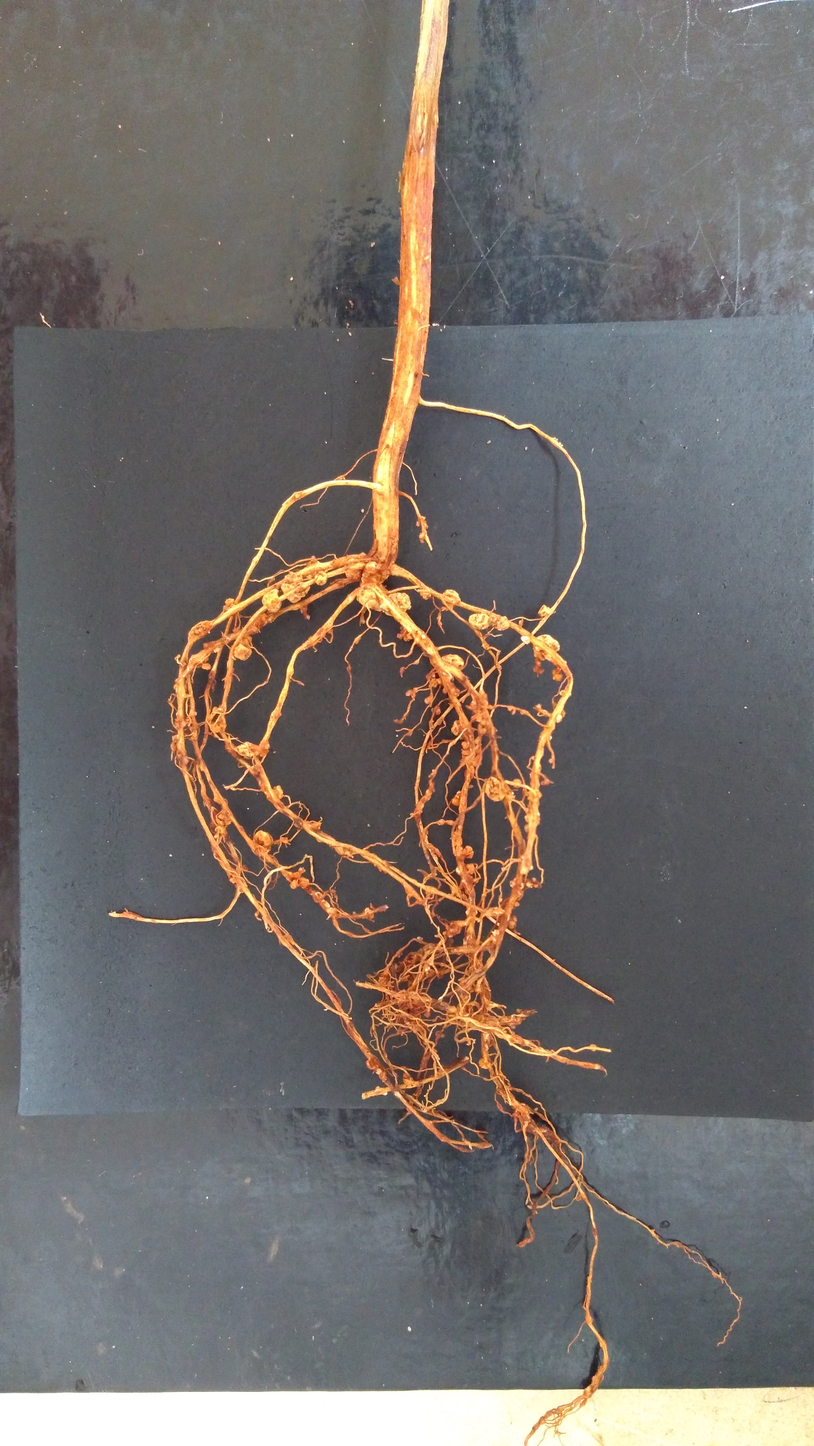nodule: (356, 583, 385, 612), (532, 634, 560, 661), (382, 592, 411, 617), (280, 581, 310, 603), (251, 830, 273, 857), (462, 934, 484, 961), (485, 775, 505, 802), (188, 620, 211, 643), (395, 988, 420, 1009), (261, 589, 282, 613), (345, 558, 365, 582), (209, 818, 229, 842), (468, 612, 493, 631), (236, 740, 261, 759), (440, 654, 464, 670), (188, 650, 209, 668), (482, 1014, 500, 1034), (442, 589, 461, 607), (233, 643, 252, 661), (306, 559, 321, 580), (251, 611, 268, 629), (456, 1000, 474, 1017), (451, 720, 466, 740), (333, 845, 354, 859), (422, 942, 439, 958), (492, 616, 510, 631), (456, 863, 476, 876), (446, 922, 462, 938), (396, 627, 413, 642), (361, 561, 376, 578), (485, 906, 505, 918), (477, 721, 492, 737), (524, 812, 541, 826), (279, 932, 296, 946), (533, 653, 544, 674), (284, 571, 303, 583), (203, 641, 222, 653), (218, 809, 232, 825), (377, 970, 390, 987), (314, 571, 328, 586), (365, 1056, 380, 1070), (259, 739, 270, 758), (460, 845, 474, 859), (415, 515, 428, 530), (419, 585, 432, 600), (527, 789, 542, 802), (403, 1072, 416, 1087), (463, 765, 475, 781), (406, 975, 418, 991), (222, 598, 235, 612), (478, 1057, 492, 1070), (414, 1020, 428, 1033), (404, 951, 417, 965), (537, 605, 552, 617), (471, 708, 483, 723), (173, 682, 188, 694), (551, 667, 563, 681), (485, 940, 497, 954), (459, 752, 473, 764), (508, 914, 518, 930), (452, 790, 462, 806), (465, 905, 478, 917), (470, 754, 482, 767), (239, 633, 252, 645), (209, 720, 221, 733), (177, 752, 189, 765), (362, 907, 374, 920), (311, 891, 323, 904), (465, 700, 479, 711), (273, 785, 284, 799), (531, 1126, 548, 1134), (247, 624, 259, 635), (445, 1004, 457, 1015), (319, 899, 331, 910), (299, 876, 309, 889), (520, 635, 531, 645), (425, 968, 436, 978), (357, 552, 369, 561), (214, 825, 226, 834), (326, 907, 338, 916), (512, 778, 522, 788), (489, 933, 499, 943), (418, 532, 427, 543), (430, 706, 441, 715), (430, 678, 441, 687), (311, 821, 322, 830), (378, 1070, 387, 1081), (450, 687, 460, 696), (171, 734, 180, 744), (460, 747, 471, 755), (554, 714, 563, 723), (474, 984, 483, 993), (491, 928, 501, 936), (460, 892, 468, 902), (461, 740, 469, 750), (473, 735, 481, 745), (190, 731, 198, 741), (290, 879, 298, 889), (435, 1030, 445, 1038), (354, 635, 362, 645), (170, 741, 177, 752), (519, 708, 528, 716), (232, 626, 241, 634), (202, 663, 211, 671), (280, 836, 289, 844), (297, 866, 306, 874), (589, 1043, 597, 1052), (540, 779, 550, 786), (521, 787, 528, 797), (523, 824, 530, 834), (526, 881, 534, 889), (310, 555, 318, 563), (241, 863, 249, 871), (514, 1110, 522, 1118), (326, 625, 334, 633), (446, 819, 455, 826), (336, 475, 346, 481), (508, 880, 515, 888), (473, 876, 480, 884), (475, 746, 482, 754), (405, 690, 413, 697), (423, 1011, 431, 1018), (437, 819, 445, 826), (300, 607, 308, 614), (294, 492, 301, 499), (535, 703, 542, 710), (513, 900, 520, 907), (424, 697, 431, 704), (429, 673, 436, 680), (211, 706, 218, 713), (558, 690, 566, 696), (500, 866, 508, 872), (532, 883, 539, 889), (412, 687, 418, 694), (516, 1008, 523, 1014), (416, 935, 423, 941), (229, 877, 236, 883), (548, 758, 554, 764), (518, 619, 523, 626), (542, 710, 548, 715), (507, 705, 512, 711), (511, 710, 516, 716), (525, 806, 530, 812), (306, 574, 311, 580), (208, 714, 213, 720), (219, 707, 224, 712), (499, 897, 503, 903), (531, 755, 535, 760), (194, 710, 197, 716), (183, 662, 187, 666)
